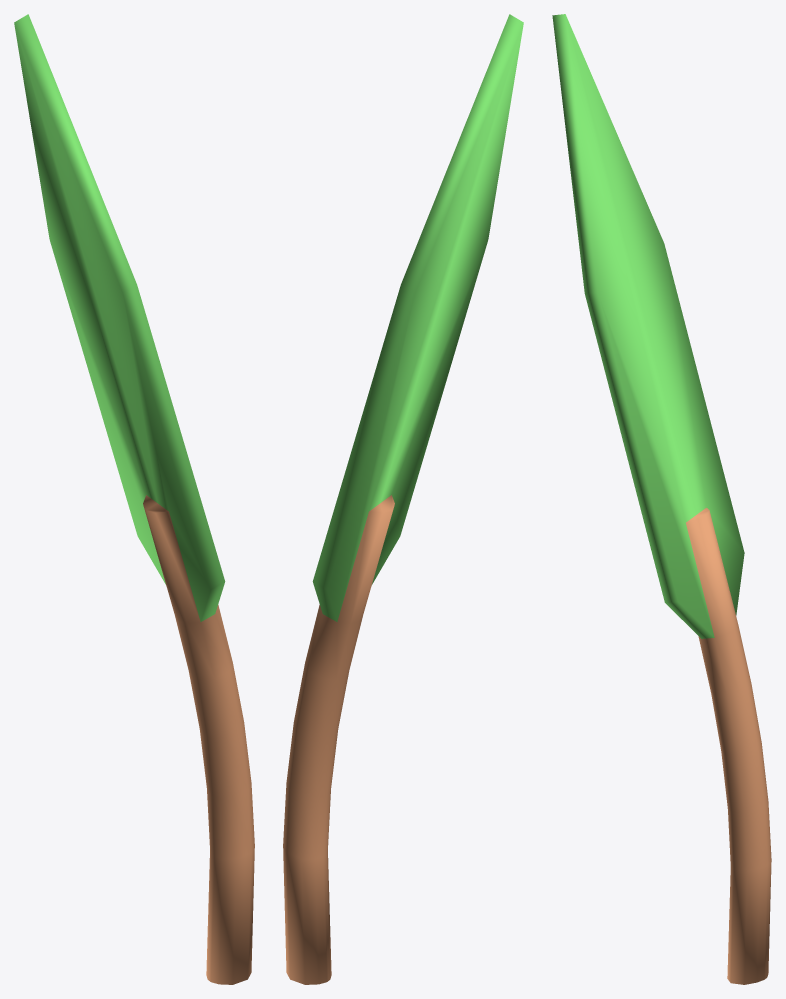
File: beanboi-LEAF.glb
The picture shows the model from 3 angles, left to right: view 1: azimuth 30°, elevation 25°; view 2: azimuth 150°, elevation 25°; view 3: azimuth 330°, elevation 25°; orthographic projection. The views are drawn at different scales.
Visible parts, largest first — view 1: Cube; view 2: Cube; view 3: Cube.
Part boxes in pixels (x1=…): Cube: x1=14, y1=14, x2=254, y2=984; Cube: x1=283, y1=14, x2=523, y2=984; Cube: x1=552, y1=14, x2=771, y2=984.
Size of the model in its own units: 1.15 by 4.66 by 0.6114.
Materials: 2 (1 with a texture image).
